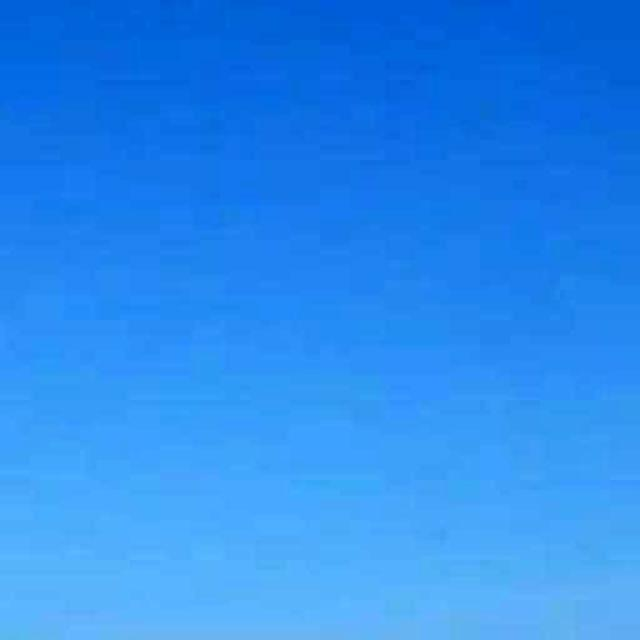drone: (412, 502, 474, 570)
